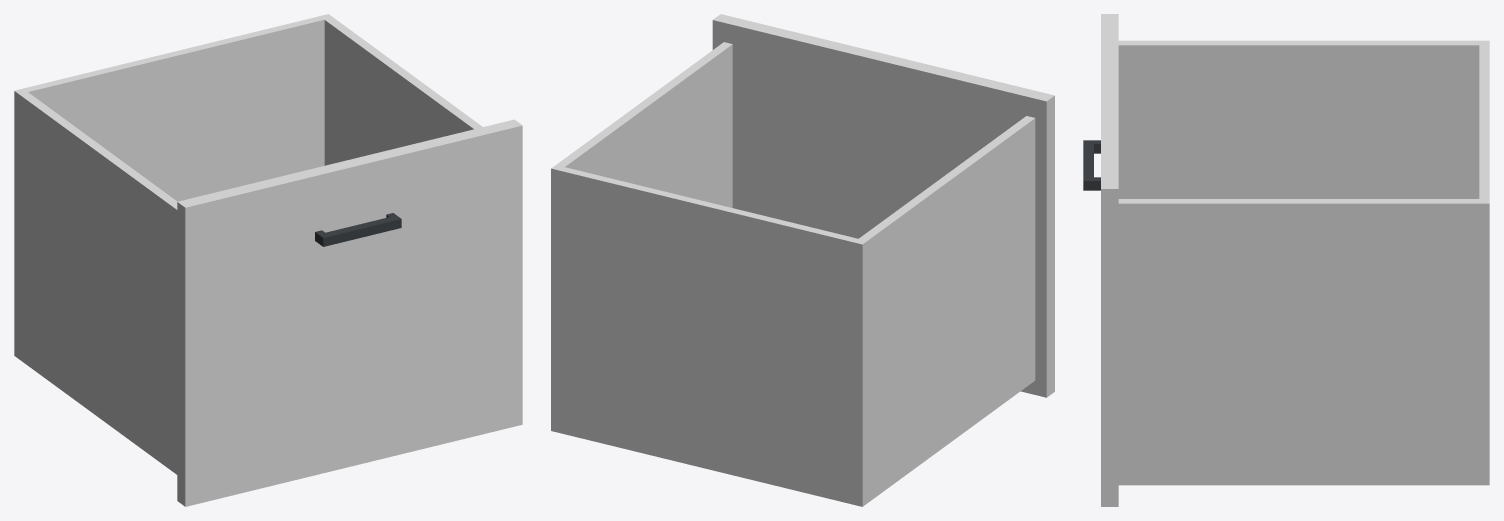
Rendered from Door1_C1_06.fbx.
The picture shows the model from 3 angles, left to right: view 1: azimuth 30°, elevation 25°; view 2: azimuth 150°, elevation 25°; view 3: azimuth 270°, elevation 25°; orthographic projection. The views are drawn at different scales.
Parts seen in each view (by area): view 1: Door1_C1_06; view 2: Door1_C1_06; view 3: Door1_C1_06.
Boxes of the visible parts, bbox=[...] form: Door1_C1_06: bbox=[14, 14, 522, 506]; Door1_C1_06: bbox=[551, 14, 1054, 506]; Door1_C1_06: bbox=[1083, 14, 1489, 506].
Size of the model in its own units: 59 by 50 by 57.89.
